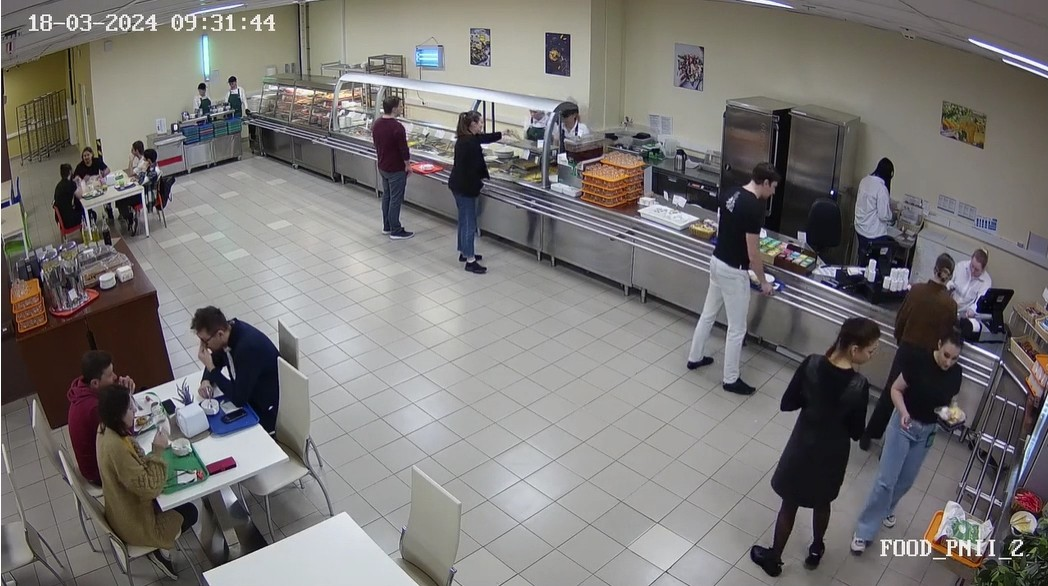Na_Kasse: (841, 242, 975, 362)
Ne_v_Ocheredi: (646, 296, 919, 569), (749, 319, 994, 563)
Personal: (852, 144, 903, 258), (958, 237, 998, 315), (180, 76, 218, 125), (550, 94, 587, 141), (220, 71, 249, 119), (519, 97, 549, 141)
Vybiraet: (626, 148, 810, 396), (444, 101, 509, 281), (360, 90, 426, 241)
Za_Stolom: (190, 290, 293, 434), (93, 382, 175, 550), (55, 347, 121, 486), (43, 163, 86, 231), (63, 146, 114, 185), (135, 146, 166, 206), (118, 134, 147, 182)
